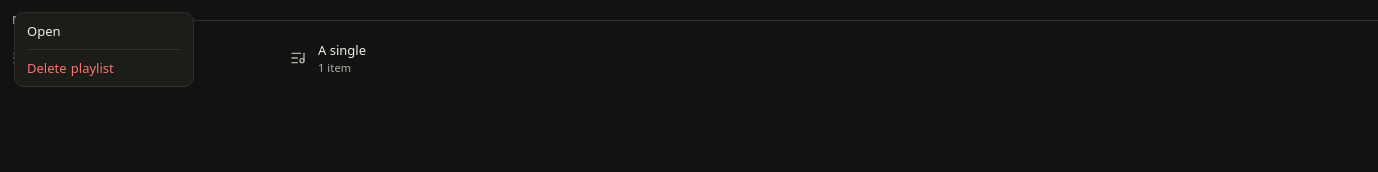
saved playlists on the home screen › offers to open or delete on a secondary click, and Undo brings it back
Earlier steps of the test are not shown.
Later steps or results of the test are not shown.
What coordinates should you click on to do the following:
click the menu item "Delete playlist"
I would click on:
 (70, 68)
Its box is x1=27 y1=59 x2=114 y2=77.
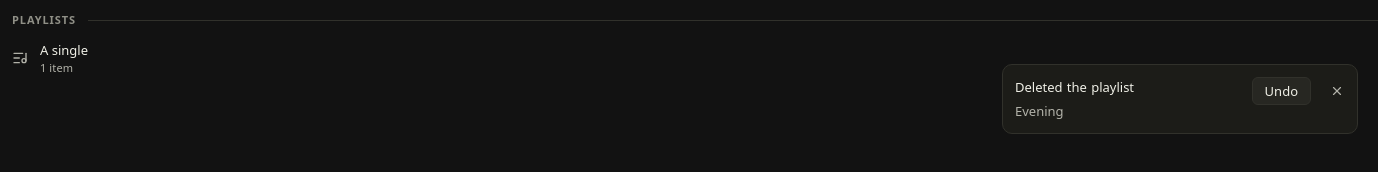
Check: the text "Deleted the playlist" is shown, box x1=1015 y1=78 x2=1134 y2=96
